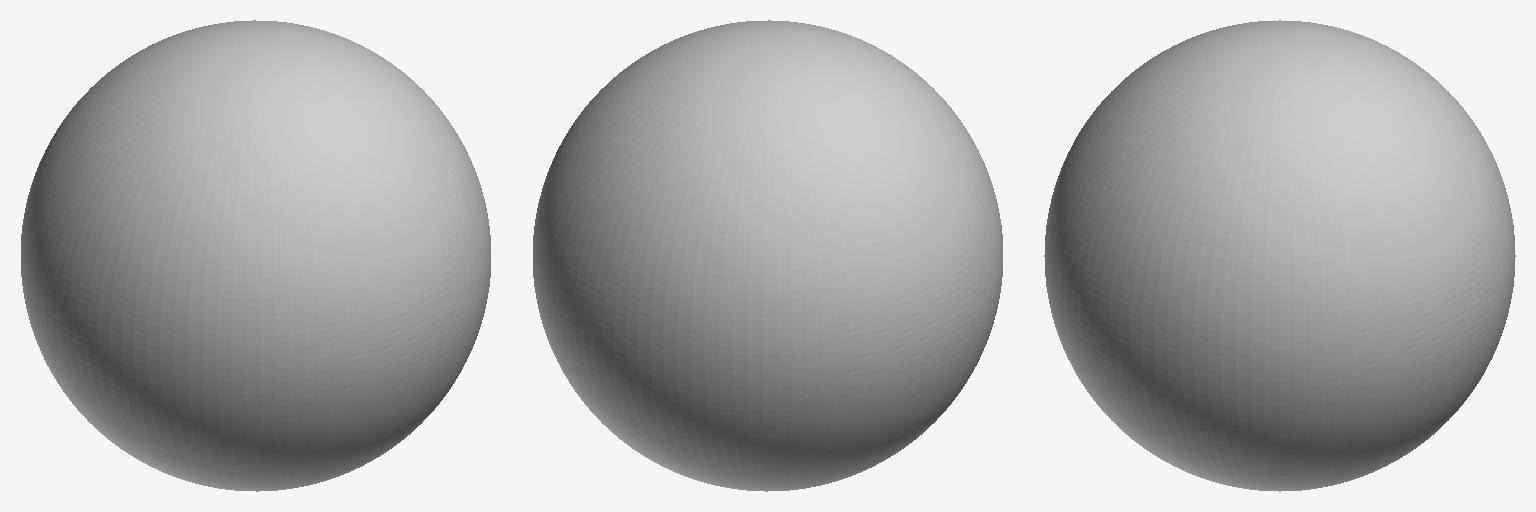
Rendered from detailed-sphere.obj.
3 renders of one model, left to right at view 1: azimuth 30°, elevation 25°; view 2: azimuth 150°, elevation 25°; view 3: azimuth 270°, elevation 25°, orthographic.
Parts seen in each view (by area): view 1: pSphere1; view 2: pSphere1; view 3: pSphere1.
Part boxes in pixels (bbox=[...]): pSphere1: bbox=[21, 20, 490, 491]; pSphere1: bbox=[533, 20, 1002, 491]; pSphere1: bbox=[1044, 20, 1515, 491].
Bounding box in the file's own units: 2 × 2 × 2.